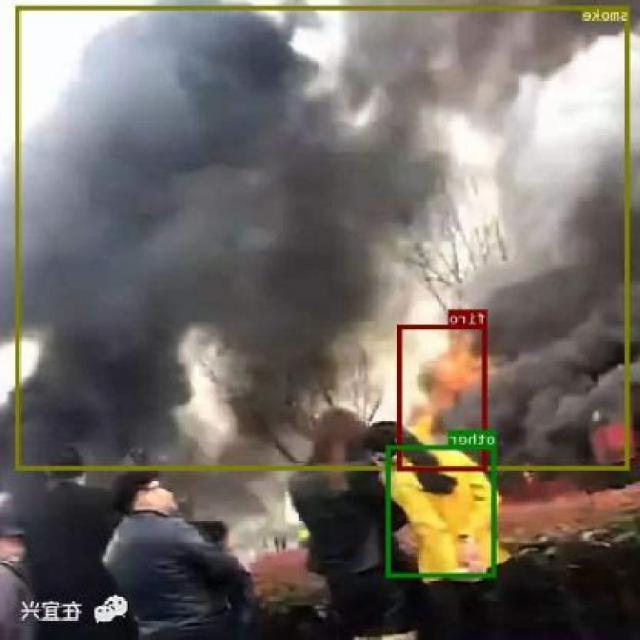Fire: (398, 324, 488, 470)
Smoke: (17, 4, 631, 470)
